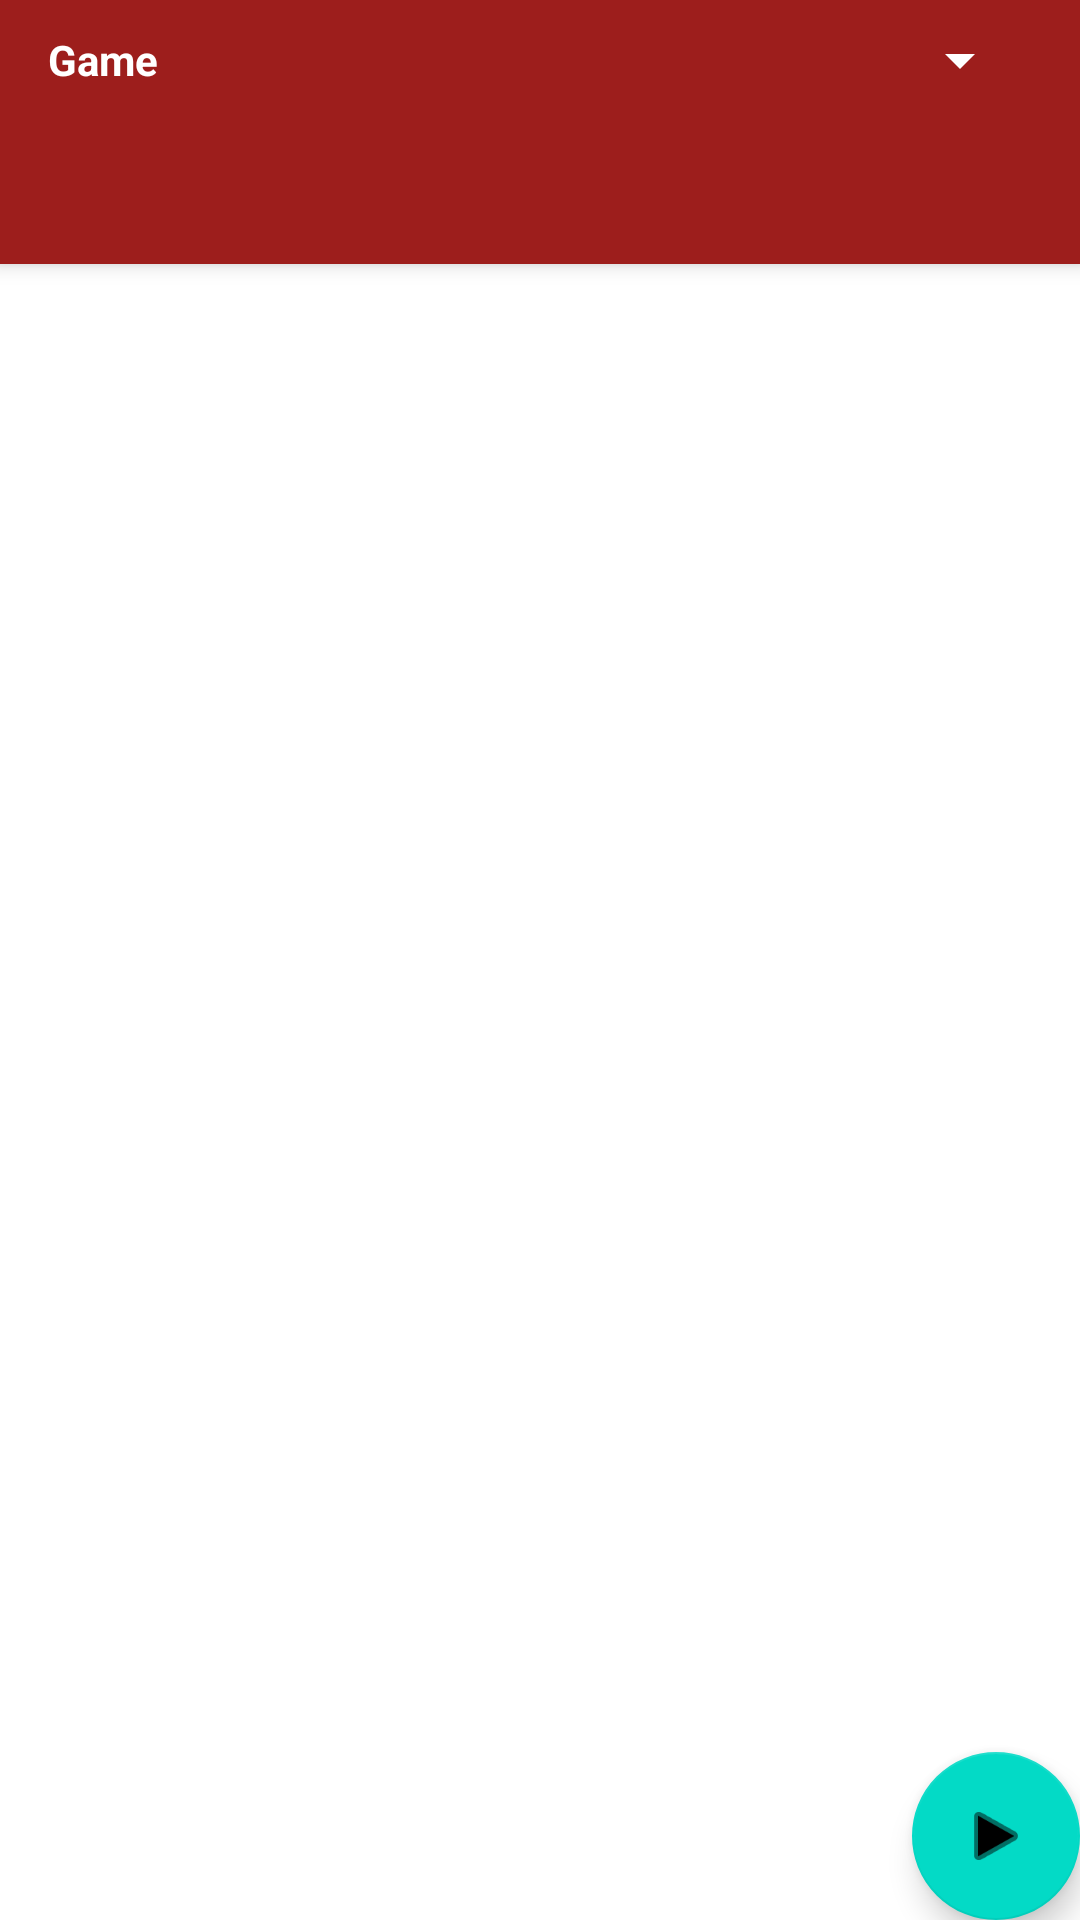

Icons on this 1080w x 1920h Android screen, each with its box as (x1, y1, x2, y2):
play: (912, 1752, 1080, 1920)
